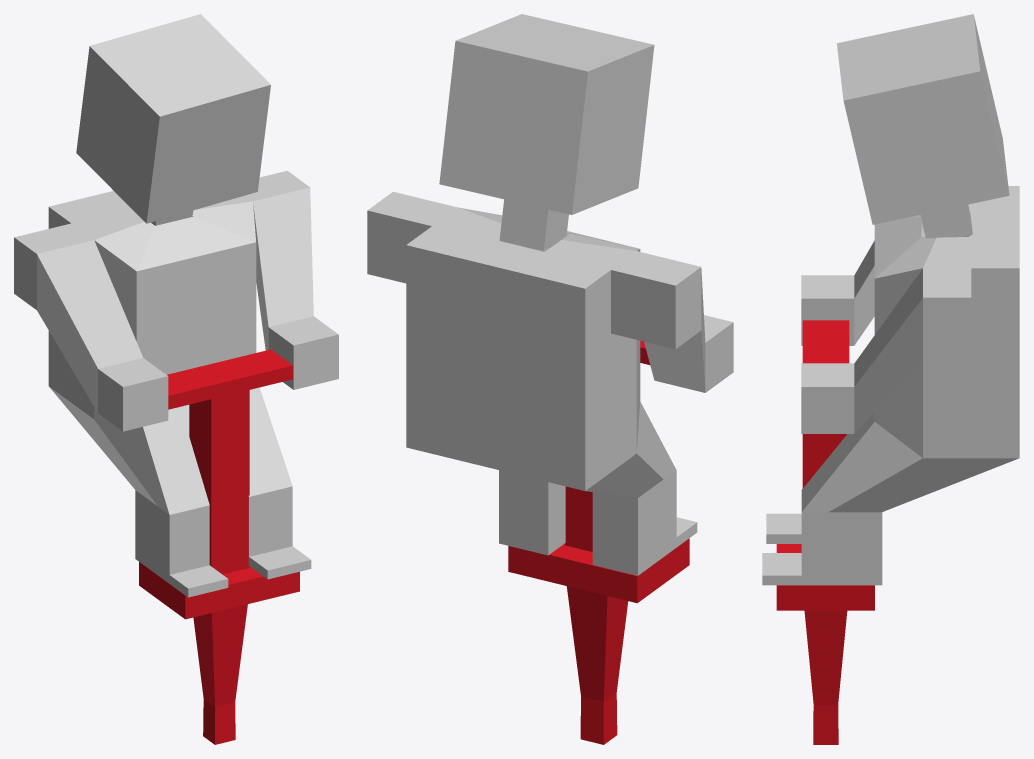
The model's file is pogostickPerson2.fbx.
The picture shows the model from 3 angles, left to right: view 1: azimuth 30°, elevation 25°; view 2: azimuth 150°, elevation 25°; view 3: azimuth 270°, elevation 25°; orthographic projection. The views are drawn at different scales.
Visible parts, largest first — view 1: Cube.001, Cube; view 2: Cube.001, Cube; view 3: Cube.001, Cube.
Boxes of the visible parts, <box> form: Cube.001: <box>14,14,338,597</box>; Cube: <box>139,349,299,744</box>; Cube.001: <box>367,14,733,575</box>; Cube: <box>508,340,689,744</box>; Cube.001: <box>762,14,1019,585</box>; Cube: <box>776,320,874,744</box>.
Size of the model in its own units: 477 by 1097 by 367.
